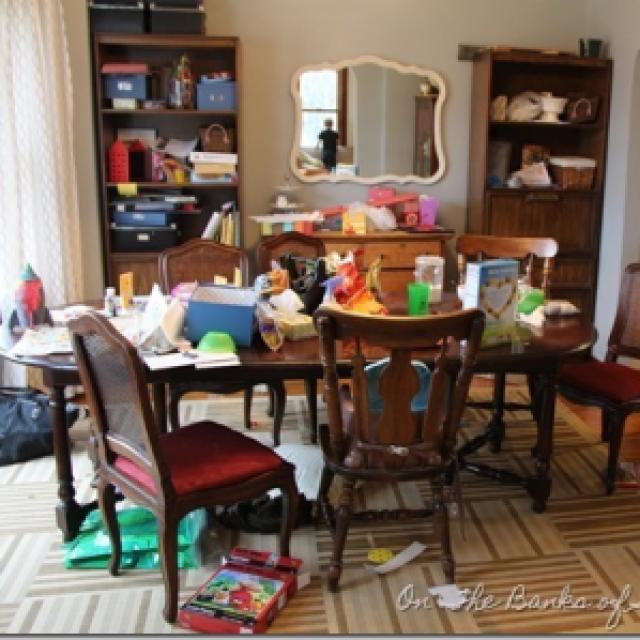mess: (32, 230, 605, 407), (76, 27, 276, 232)
